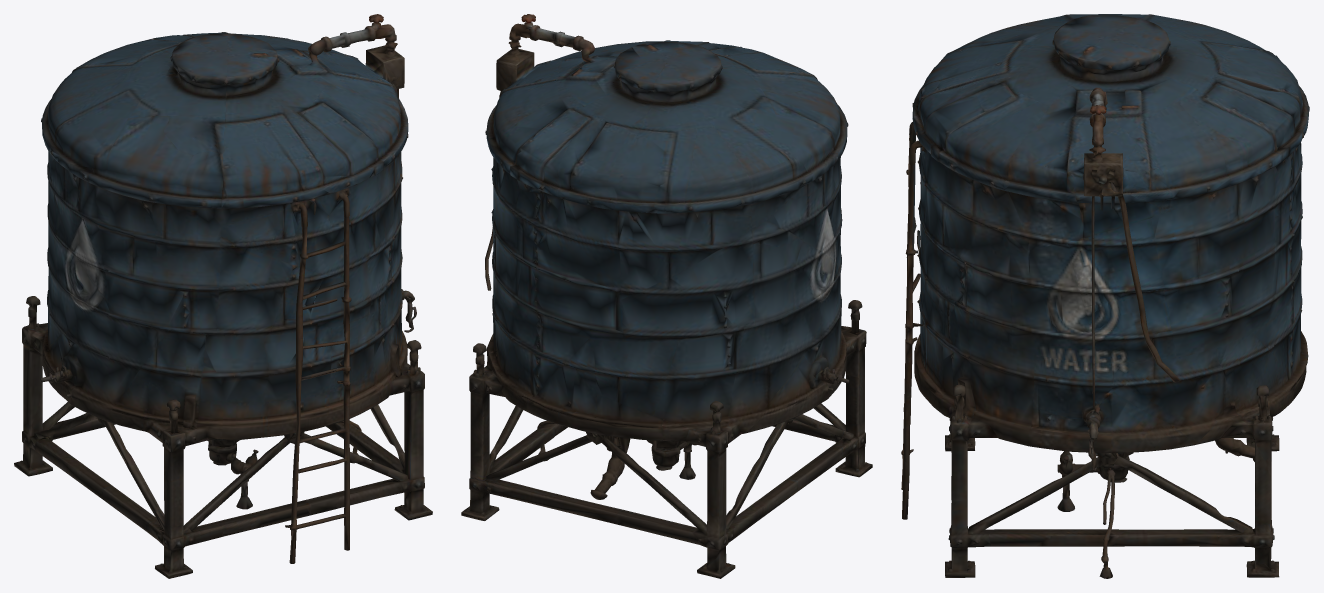
The model's file is tank_water.glb.
The picture shows the model from 3 angles, left to right: view 1: azimuth 30°, elevation 25°; view 2: azimuth 150°, elevation 25°; view 3: azimuth 270°, elevation 25°; orthographic projection. The views are drawn at different scales.
Parts seen in each view (by area): view 1: tank_water; view 2: tank_water; view 3: tank_water.
Boxes of the visible parts, bbox=[...] form: tank_water: bbox=[14, 14, 432, 578]; tank_water: bbox=[461, 14, 872, 578]; tank_water: bbox=[901, 14, 1309, 578].
Size of the model in its own units: 164 by 190 by 147.
1 material, 1 textured.
